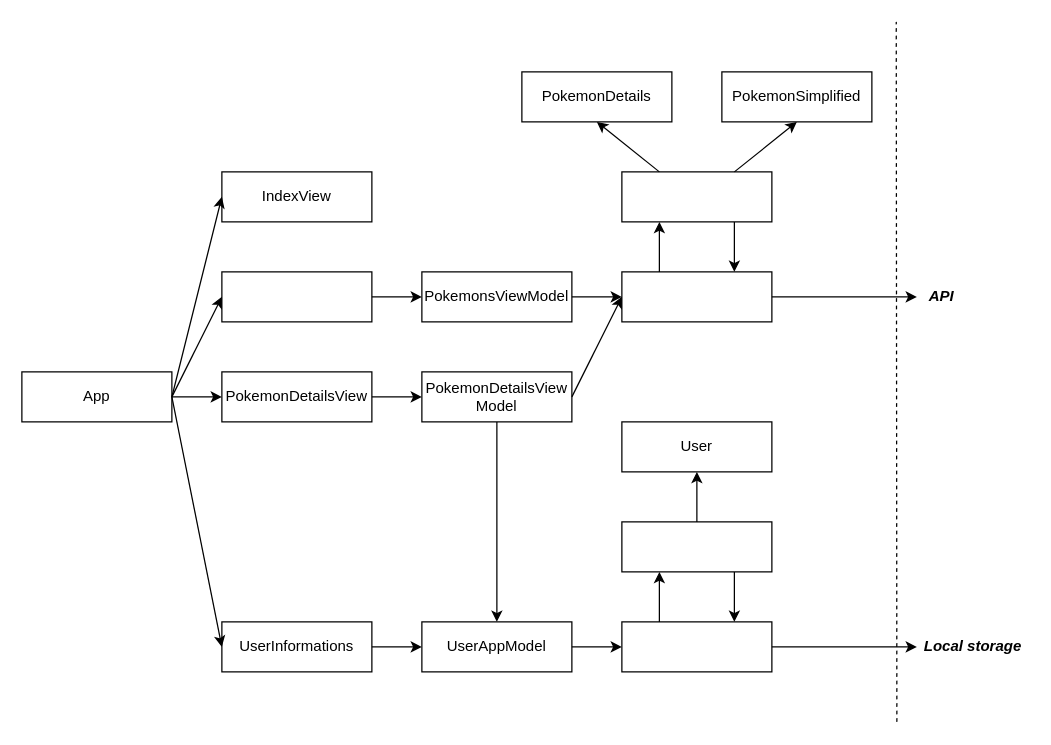
Image size: 1051x745. Some labels were removed from this diagram. The shapes that lost their labels are listed below. From the top down, each one's centre as x and y in pixels, then its label:
At [696,196]: "PokemonsMapper".
At [296,296]: "PokemonsView".
At [696,296]: "PokemonsRepository".
At [696,546]: "UsersMapper".
At [696,646]: "UsersRepository".
